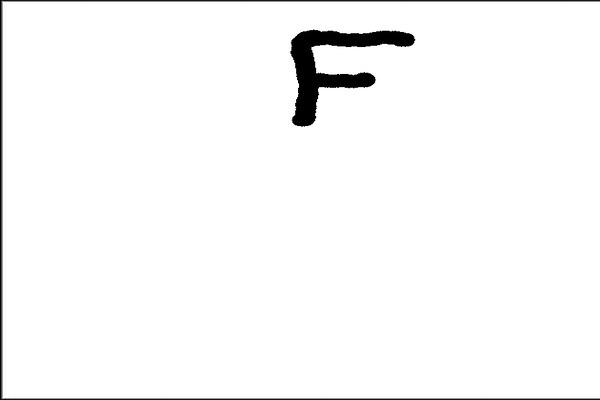F: (284, 25, 417, 129)
